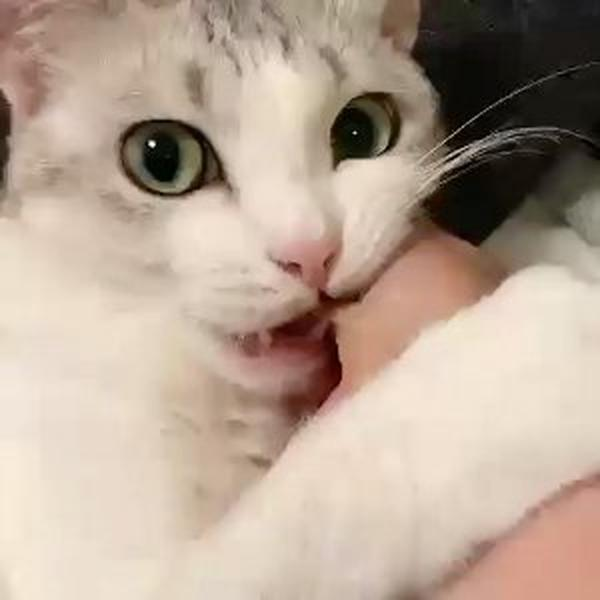michi: (1, 2, 468, 593)
